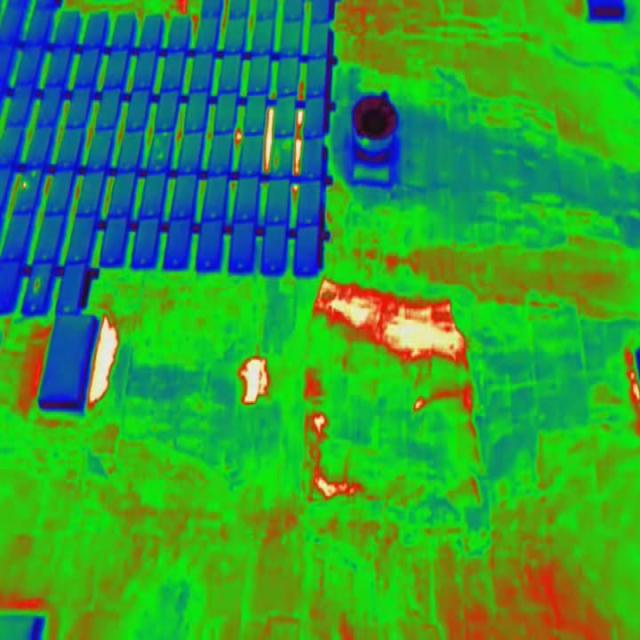Orange-Spots: (33, 278, 40, 294), (274, 151, 278, 170), (22, 181, 28, 190), (284, 142, 290, 149), (158, 152, 163, 160), (155, 137, 160, 144), (31, 172, 37, 176)
